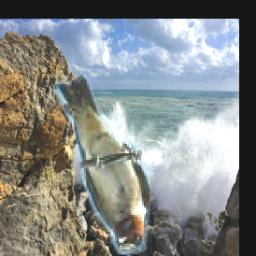Swallow: (53, 76, 151, 256)
